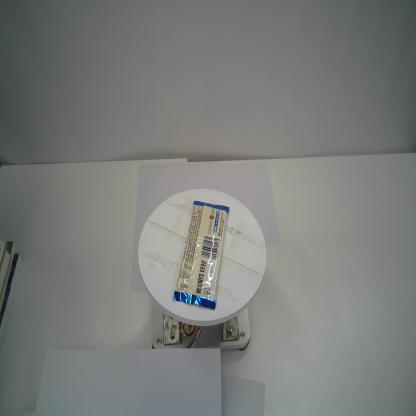Chocolate: (172, 198, 230, 311)
